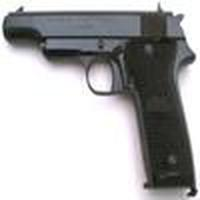gun: (1, 8, 200, 185)
